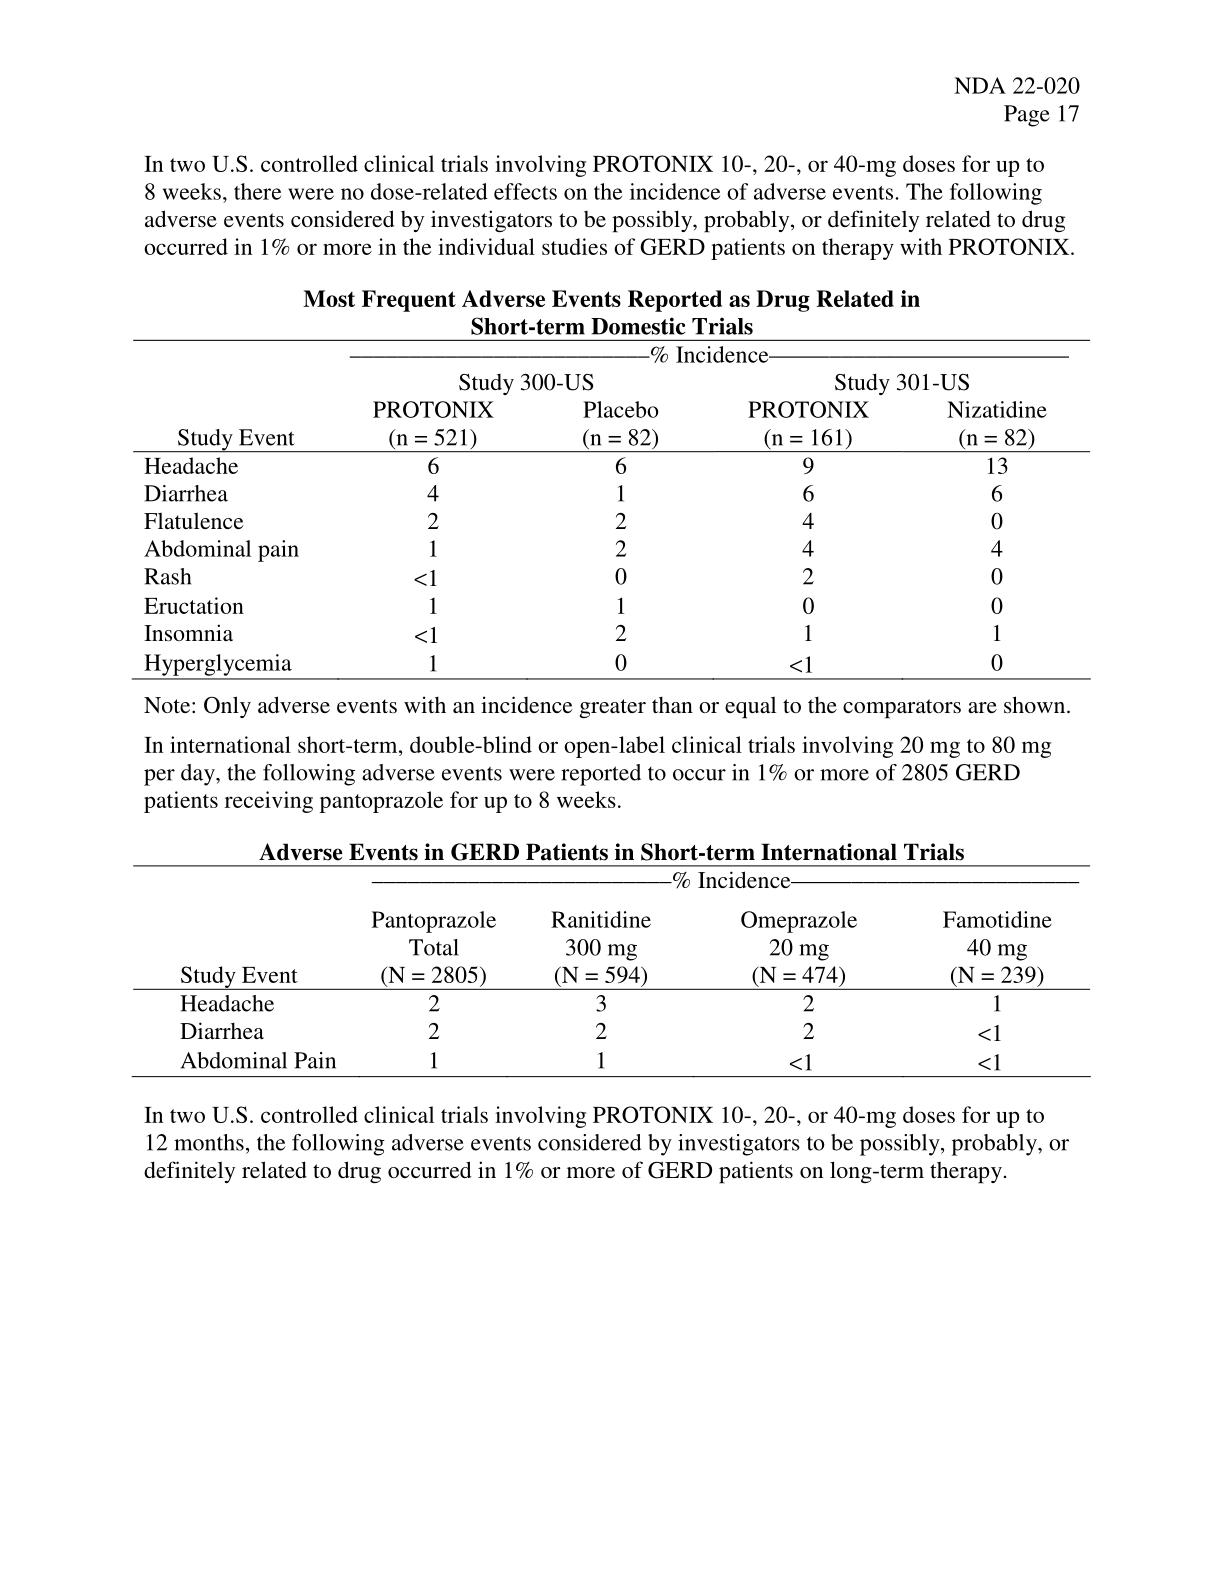partial_lined_merged_cells: (132, 336, 1089, 683), (129, 863, 1092, 1077)
